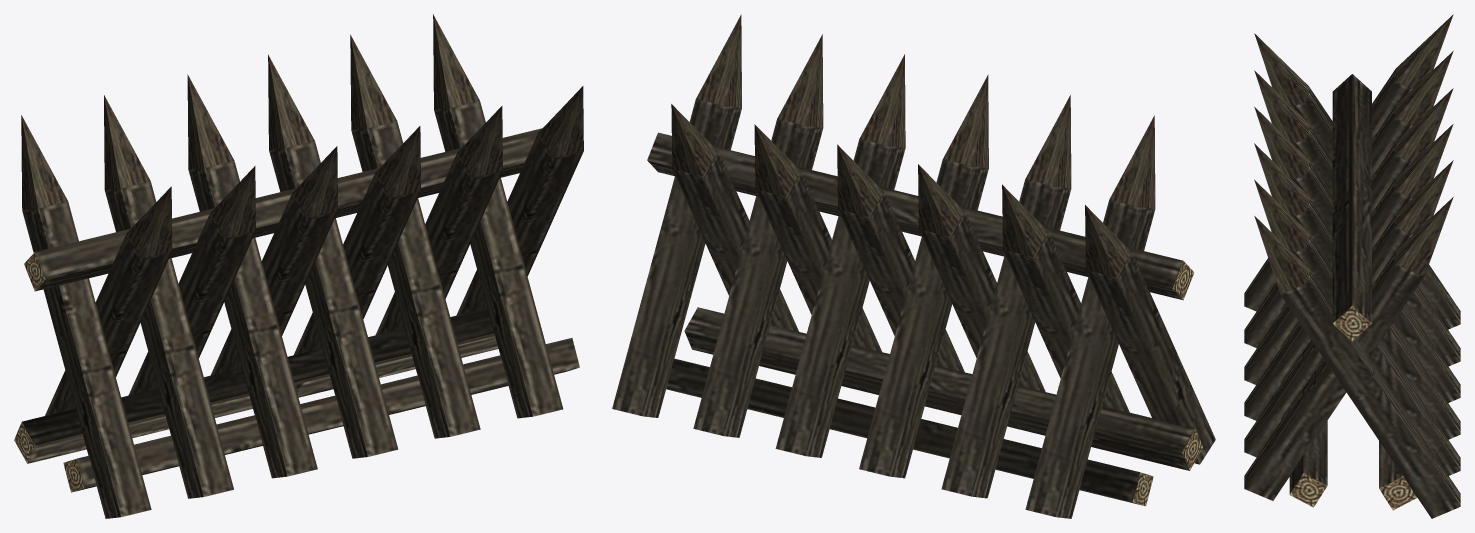
Rendered from Block01_Parts_001.FBX.
3 views of the same model, side by side, from view 1: azimuth 30°, elevation 25°; view 2: azimuth 150°, elevation 25°; view 3: azimuth 270°, elevation 25° (orthographic). The views are drawn at different scales.
Parts seen in each view (by area): view 1: Block01_Parts_001; view 2: Block01_Parts_001; view 3: Block01_Parts_001.
Boxes of the visible parts, bbox=[...] form: Block01_Parts_001: bbox=[14, 14, 583, 518]; Block01_Parts_001: bbox=[612, 14, 1215, 518]; Block01_Parts_001: bbox=[1244, 14, 1460, 518].
Size of the model in its own units: 298 by 178 by 117.
